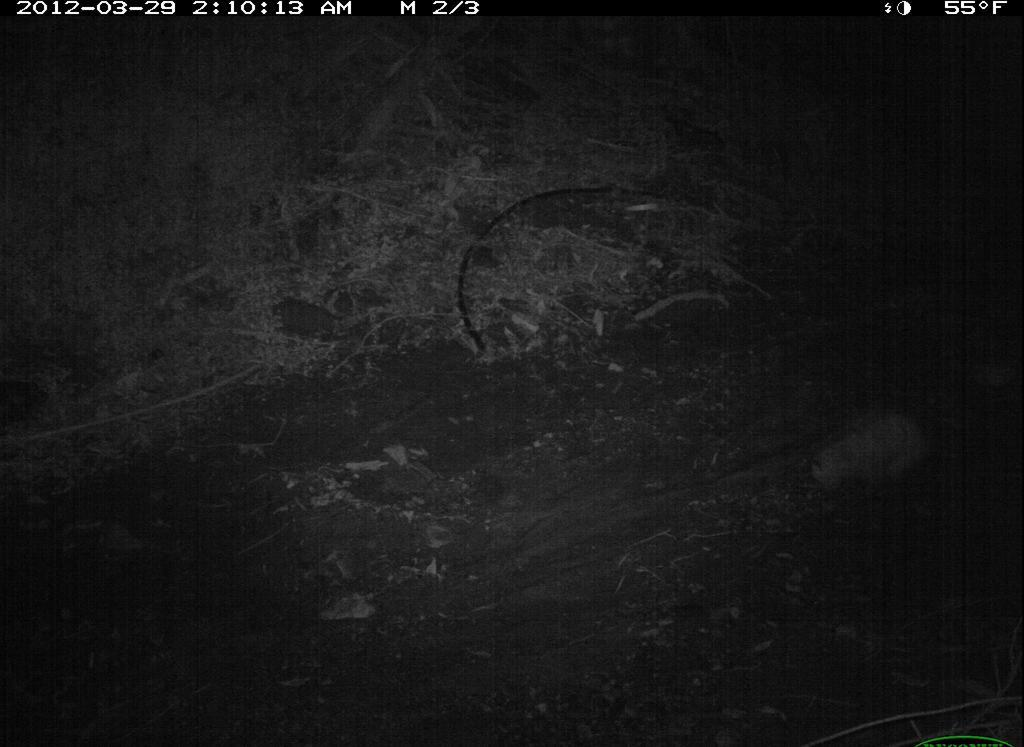opossum: (790, 393, 968, 513)
